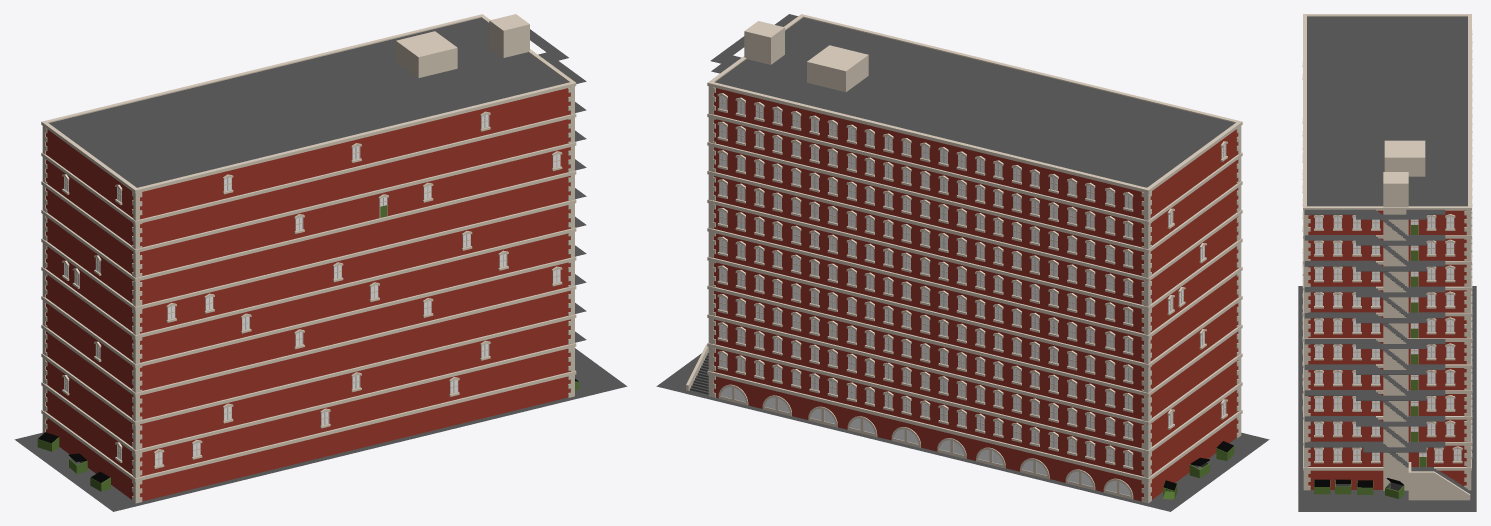
The model's file is 3x1_Apartments.col.glb.
The picture shows the model from 3 angles, left to right: view 1: azimuth 30°, elevation 25°; view 2: azimuth 150°, elevation 25°; view 3: azimuth 270°, elevation 25°; orthographic projection. The views are drawn at different scales.
Visible parts, largest first — view 1: 3x1_Apartments.col; view 2: 3x1_Apartments.col; view 3: 3x1_Apartments.col.
Part boxes in pixels (x1=…): 3x1_Apartments.col: x1=14, y1=14, x2=627, y2=511; 3x1_Apartments.col: x1=656, y1=14, x2=1269, y2=511; 3x1_Apartments.col: x1=1298, y1=14, x2=1476, y2=511.
Bounding box in the file's own units: 60 × 37.9 × 20.
